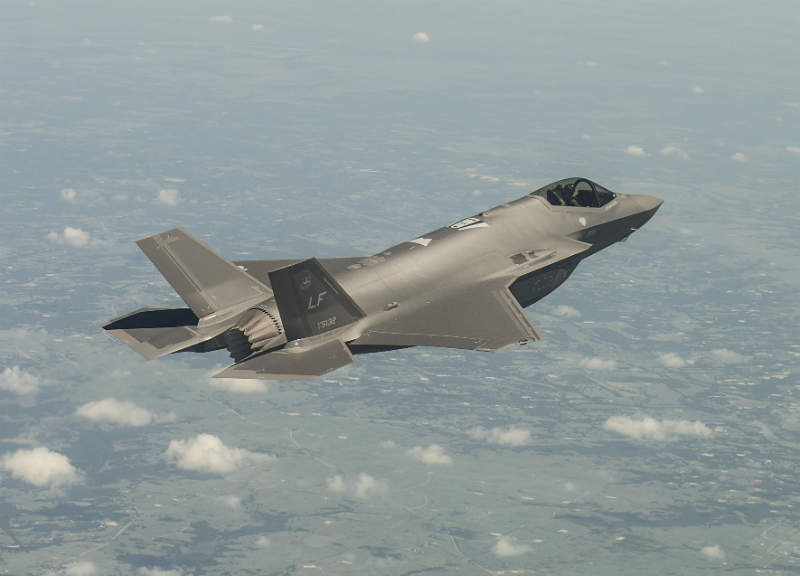F-35 Lightning: (86, 154, 681, 404)
